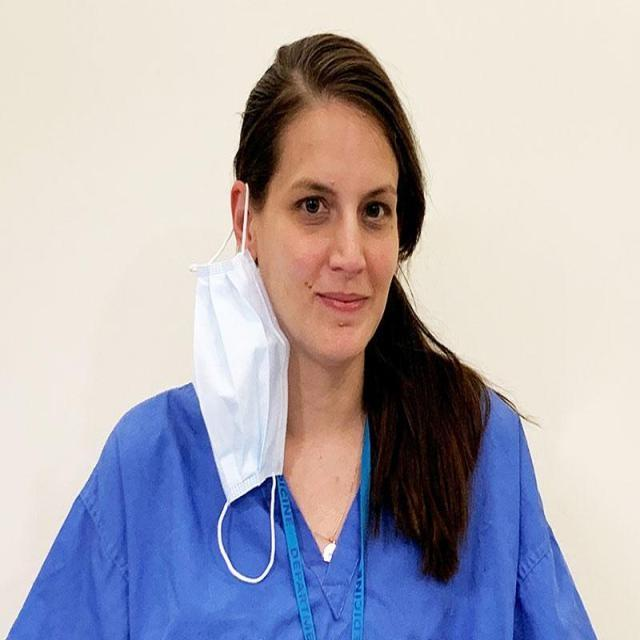hairnet: (187, 120, 420, 580)
